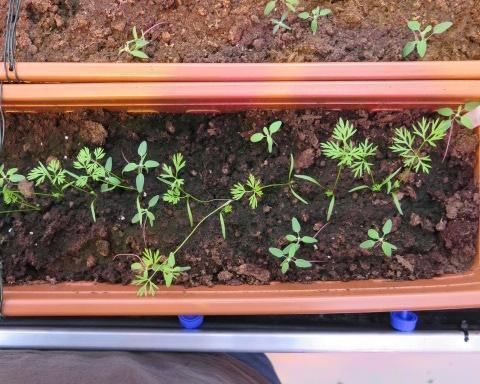weed: (355, 215, 397, 259), (243, 118, 282, 156)
